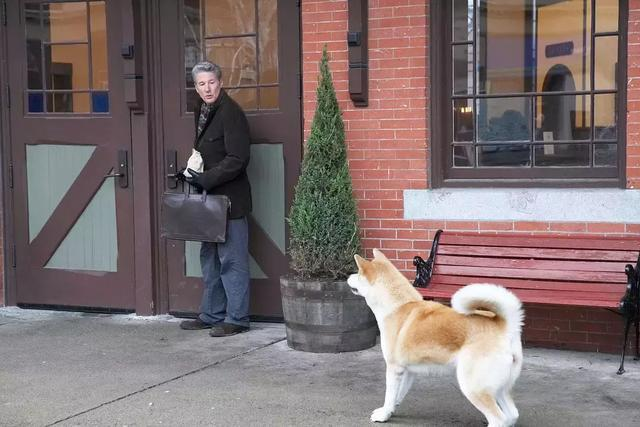dog: (351, 245, 530, 423)
person: (173, 64, 273, 340)
